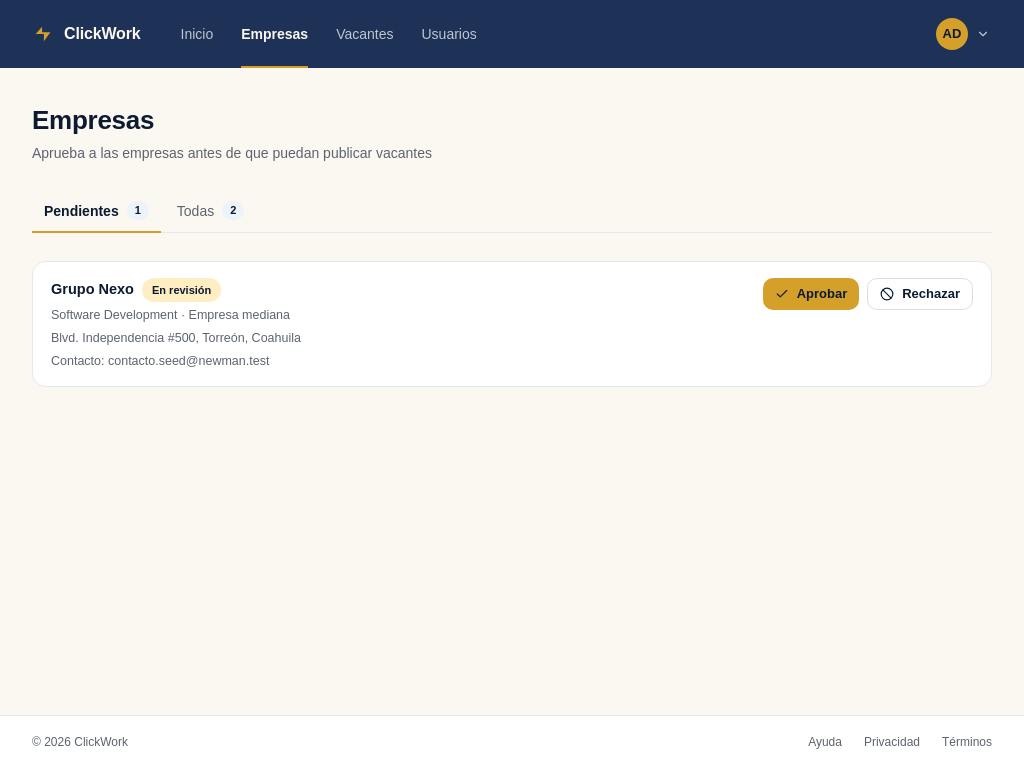
Scenario: AdminCompaniesPage › approves a pending company, which then leaves the queue
The width and height of the screenshot is (1024, 768).
Expected: the heading "Grupo Nexo" is shown, [51,279,134,301]
What coordinates should you click on to do the following:
click the button with aria-label "Aprobar Grupo Nexo"
I would click on:
 (811, 294)
Its box is [763,278,859,310].
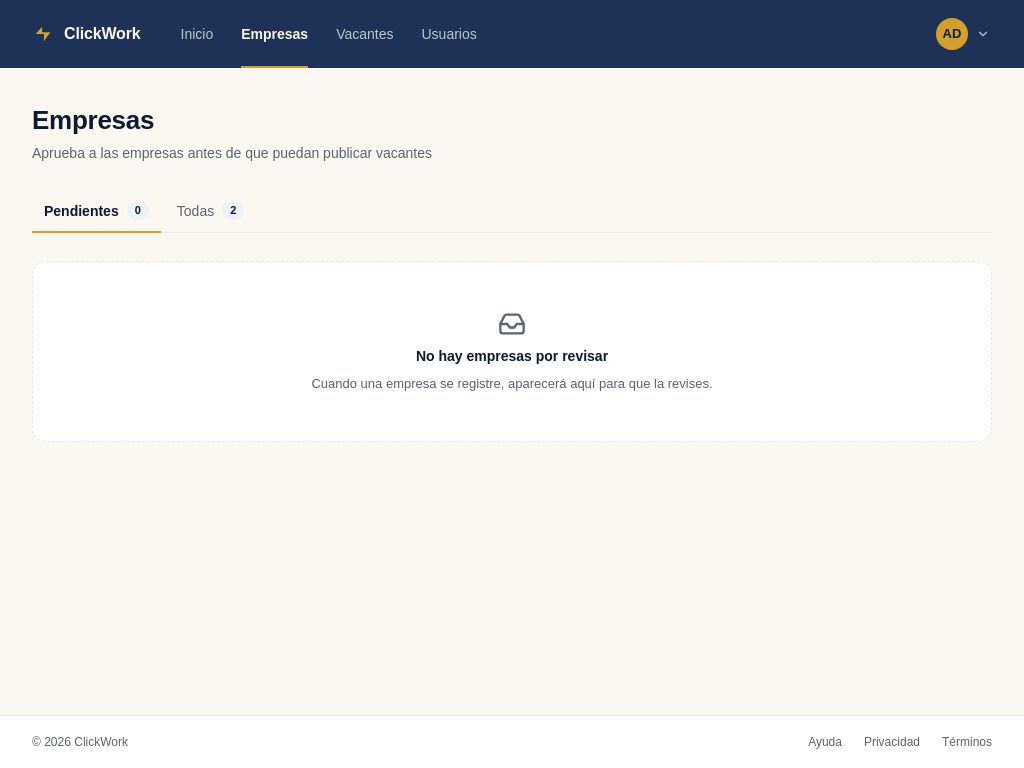
Result: the text "No hay empresas por revisar" is shown at [416,346,608,366]
